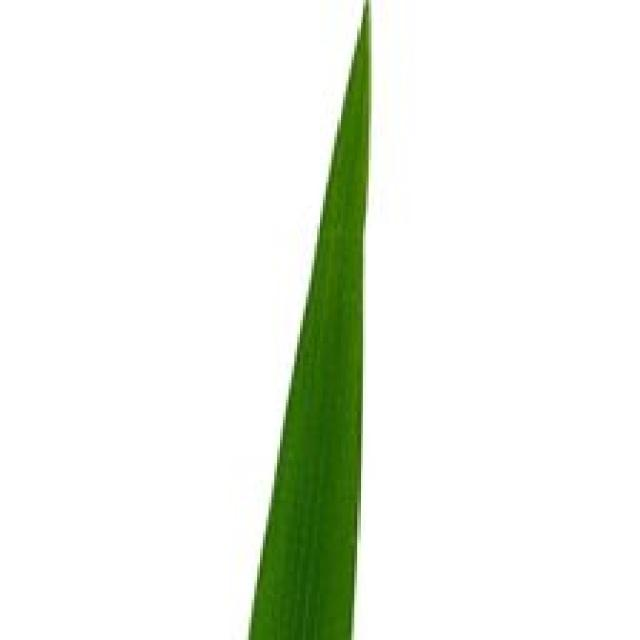Rice___Healthy_Rice_Plant: (241, 5, 366, 637)
